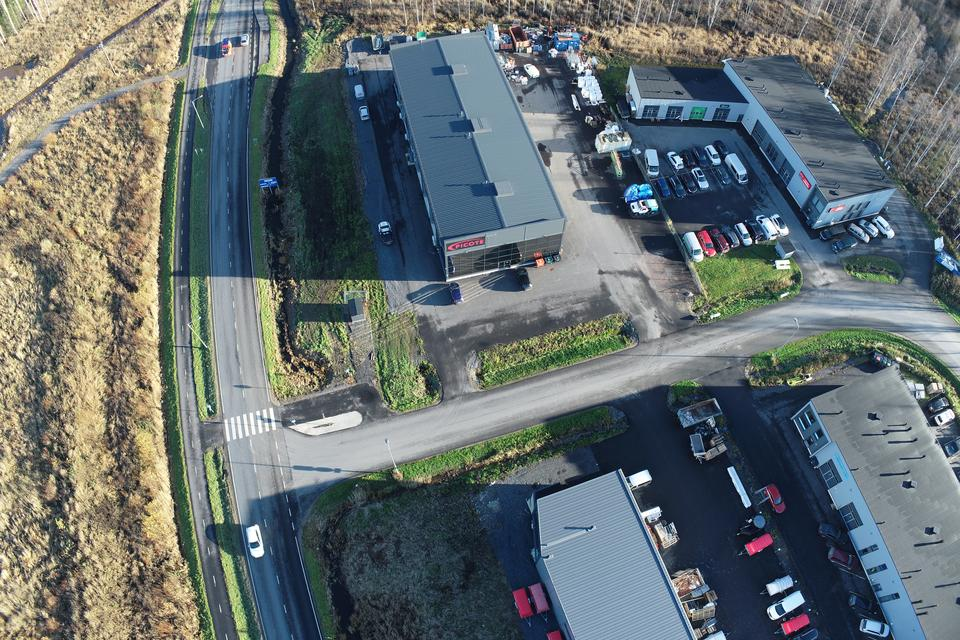intersection: (144, 374, 406, 534)
